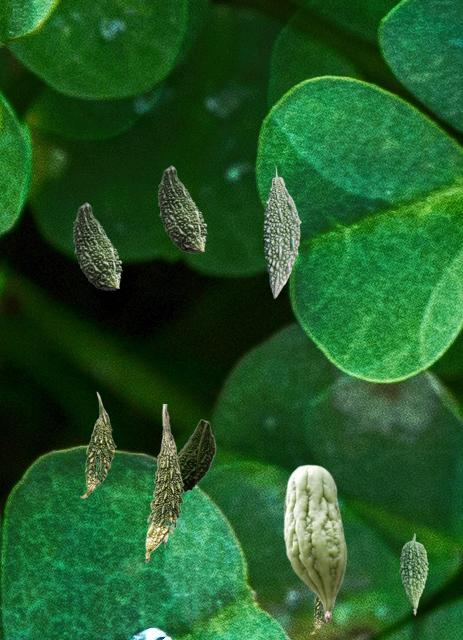ampalaya: (283, 464, 346, 622), (145, 404, 183, 562), (262, 165, 300, 297), (73, 202, 121, 289), (158, 165, 206, 252), (80, 391, 115, 497), (178, 419, 215, 493), (399, 533, 427, 614), (310, 596, 332, 633)
